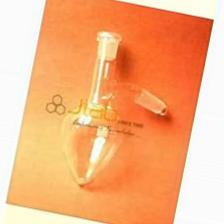Pear shaped flask: (60, 11, 170, 192)
